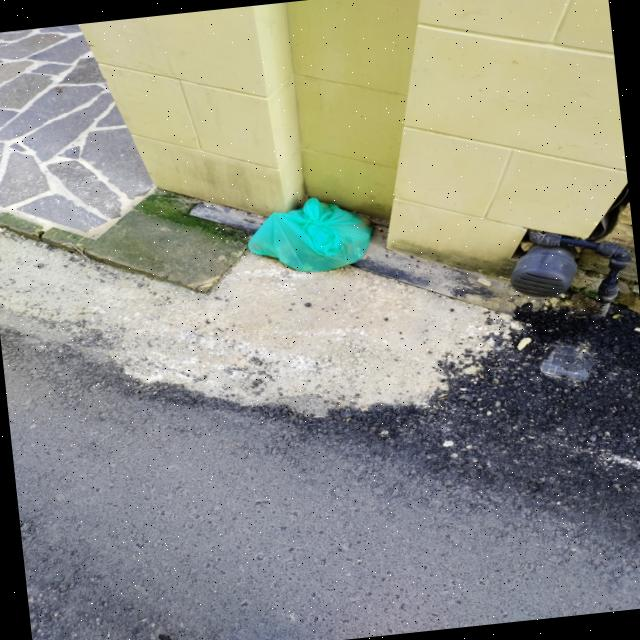Organic Waste: (242, 189, 377, 278)
